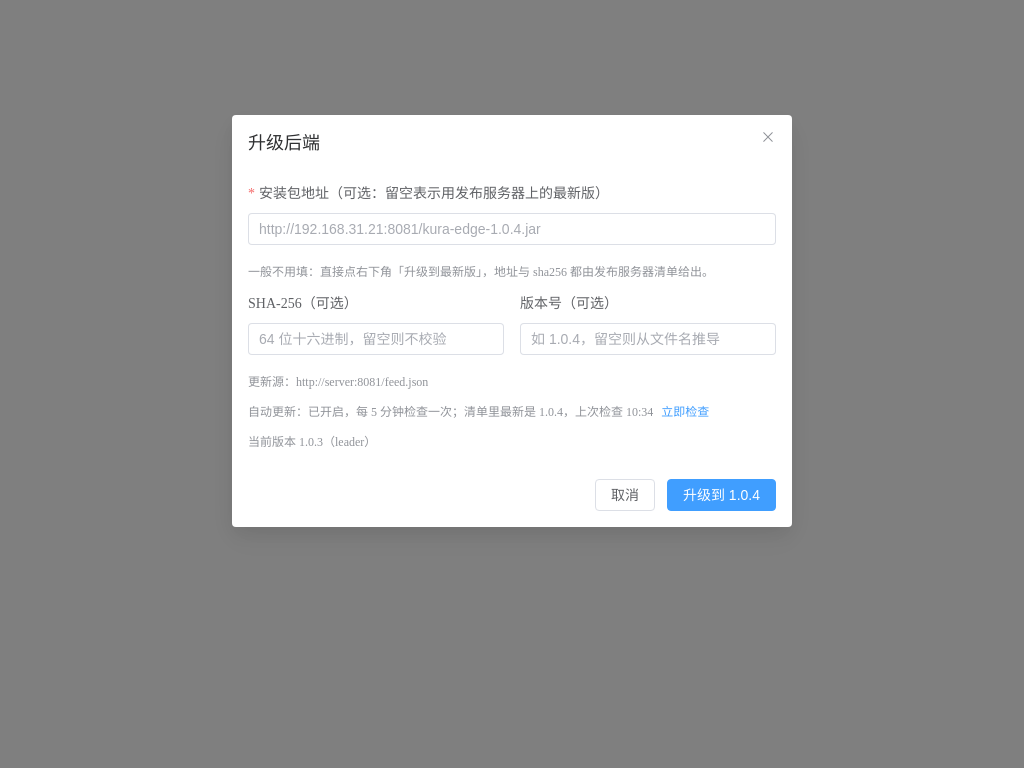
Test: UpgradeDialog › givenNewerVersionOnTheReleaseServerThenUpgradesWithOneClick
Step 1. Click the button "升级到 1.0.4" → (722, 495), box x1=667 y1=479 x2=776 y2=511
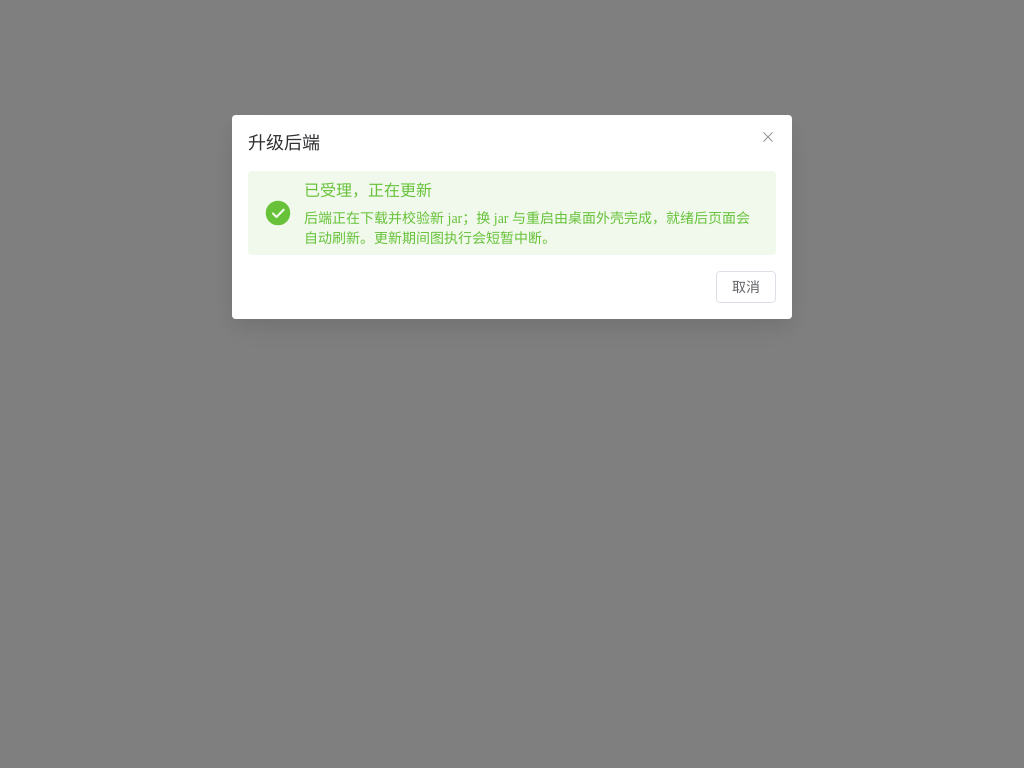
Result: the text "已受理，正在更新" is shown at x1=304 y1=182 x2=432 y2=199
